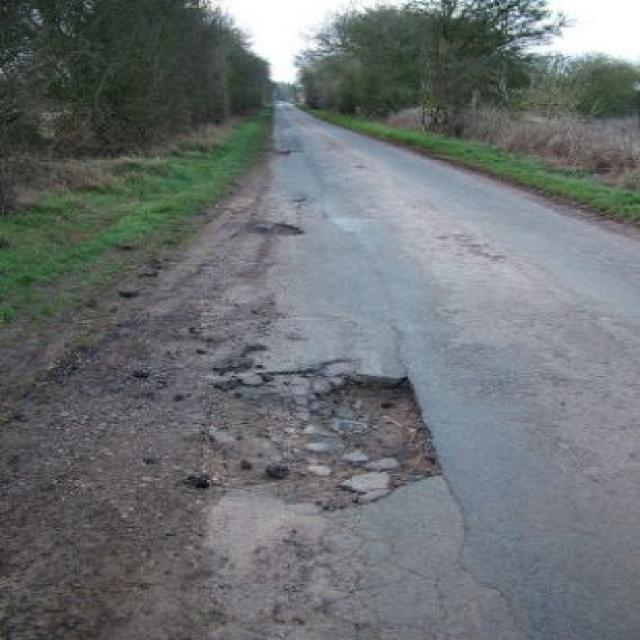pothole: (192, 358, 444, 512)
